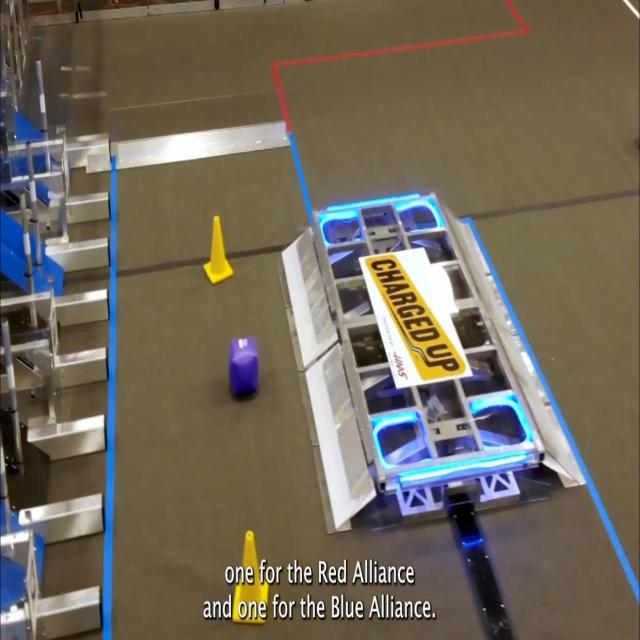frc_cone: (238, 532, 268, 624), (205, 212, 234, 279)
frc_cube: (225, 336, 264, 395)
